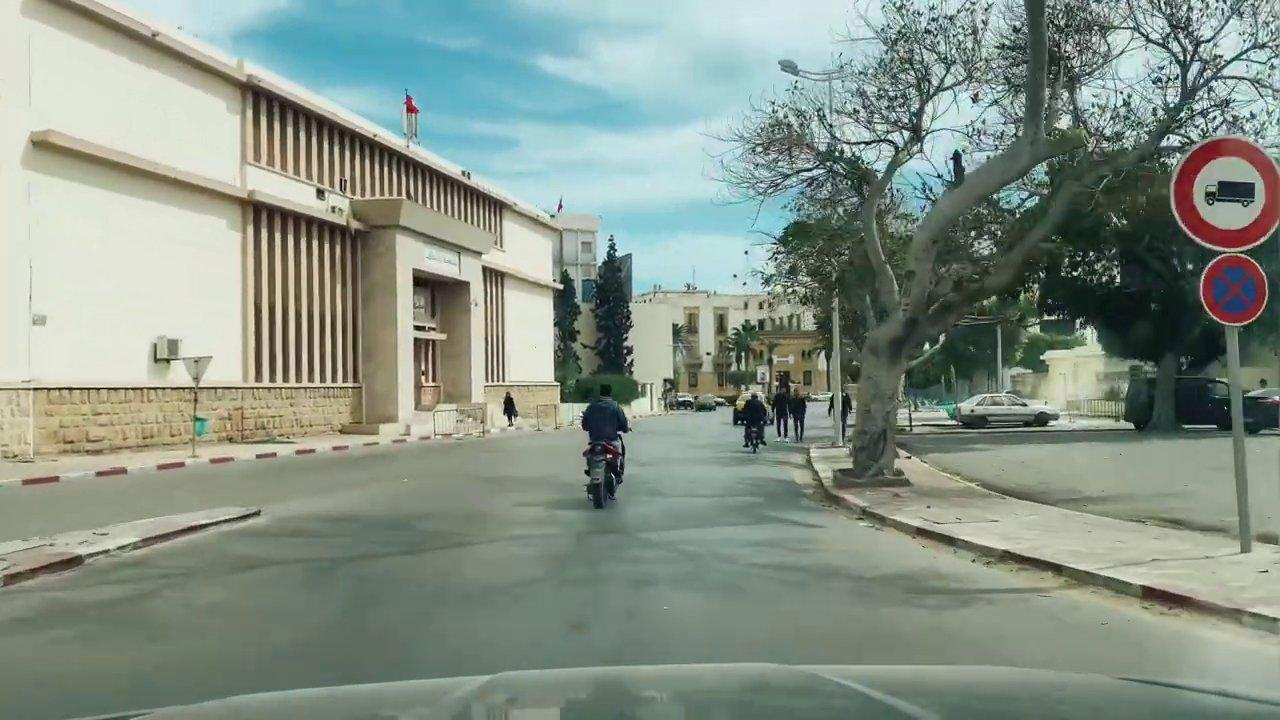no stopping: (1199, 253, 1271, 327)
no trucks: (1171, 135, 1280, 251)
